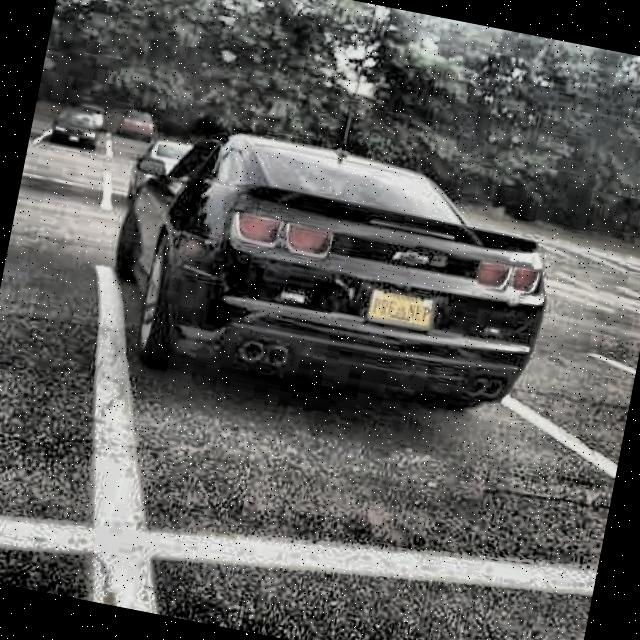license_plate: (366, 287, 441, 334)
